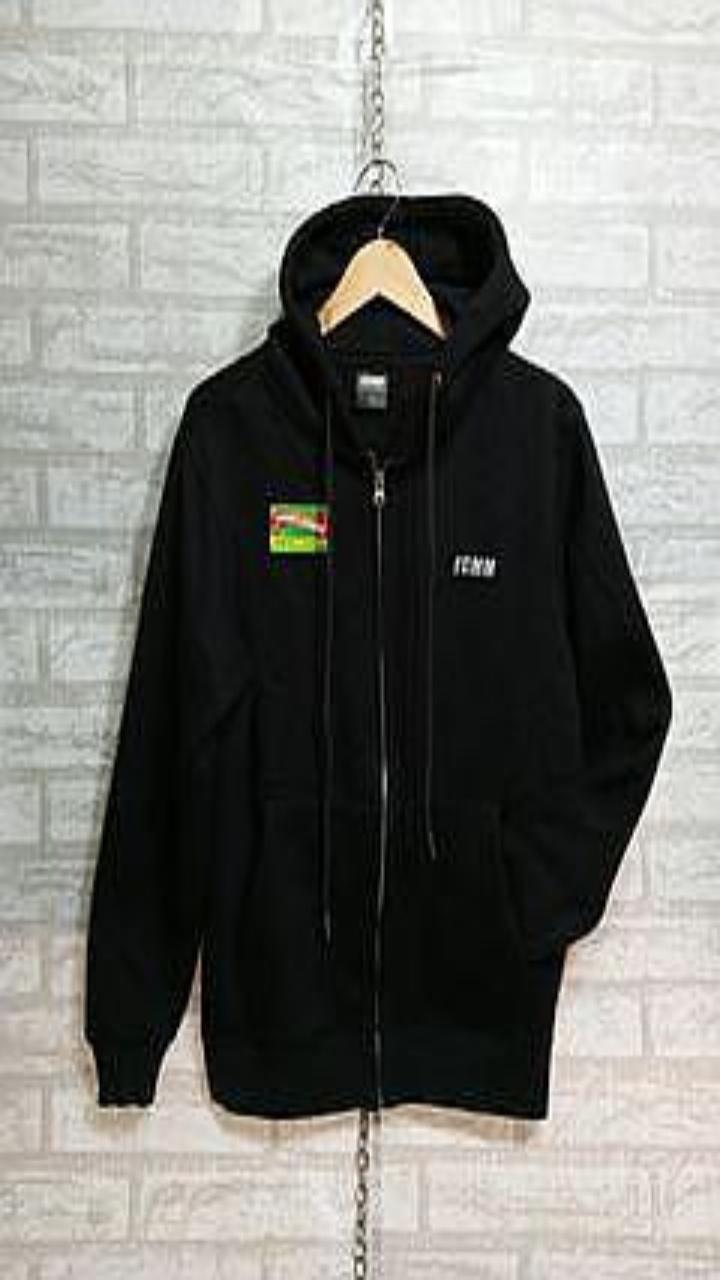Sports_Jacket: (85, 192, 670, 1117)
